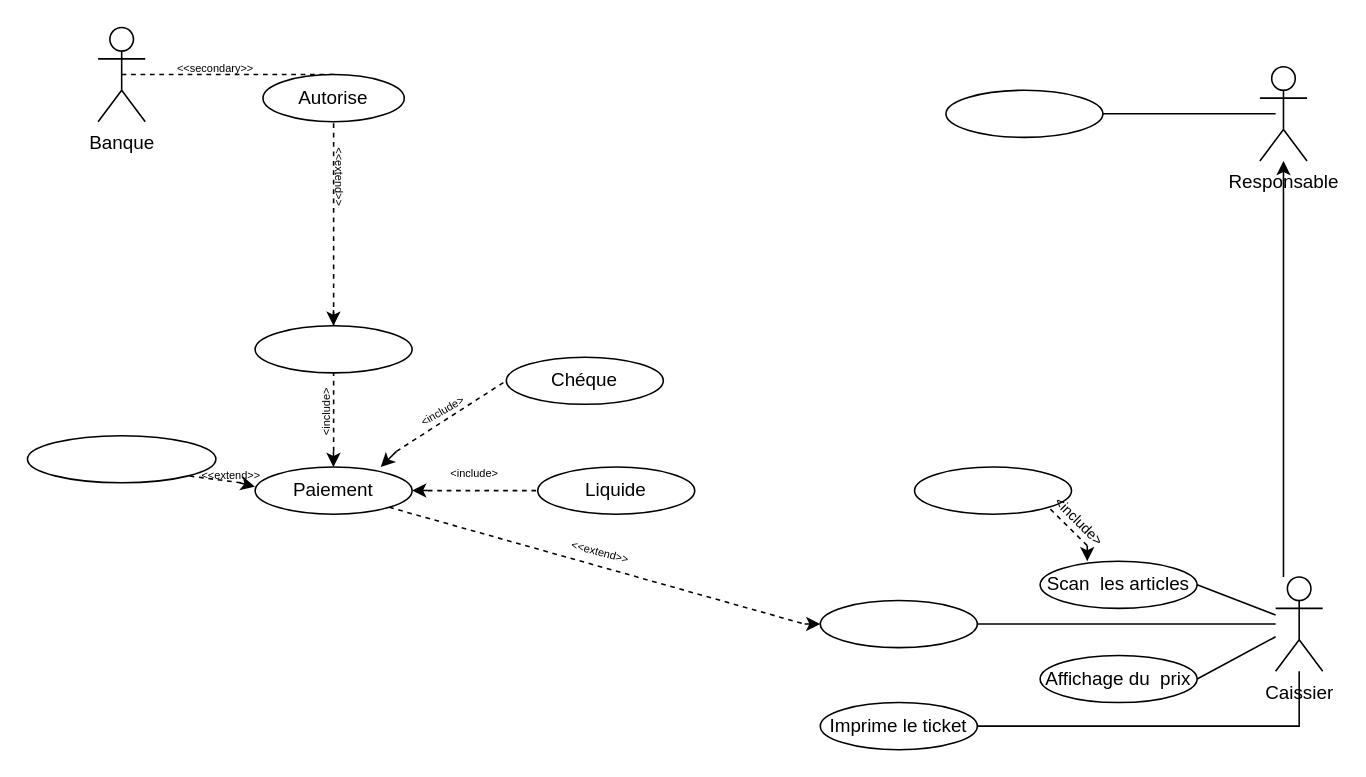
Image size: 1366x777. Some labels were removed from this diagram. Each missing label, with the box of its shape:
Affiche les articles: (913, 466, 1072, 514)
Carte Bancaire: (254, 324, 412, 373)
Coupon de reduction: (26, 434, 216, 483)
Encaisse: (819, 599, 977, 648)
Initialise les caisses: (944, 89, 1103, 137)
